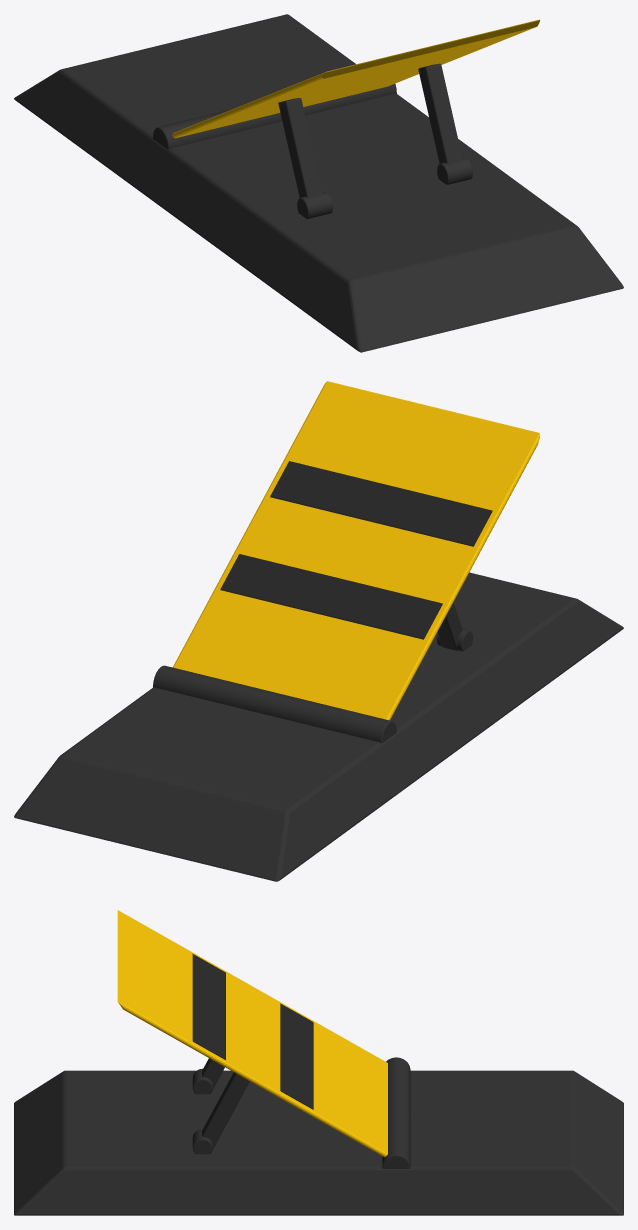
Rendered from city-parking-flap-lock.glb.
The picture shows the model from 3 angles, top to bottom: view 1: azimuth 30°, elevation 25°; view 2: azimuth 150°, elevation 25°; view 3: azimuth 270°, elevation 25°; orthographic projection. The views are drawn at different scales.
Visible parts, largest first — view 1: Assembly | Black cast housing, Assembly | Yellow powder-coated flap; view 2: Assembly | Black cast housing, Assembly | Yellow powder-coated flap, Assembly | Black flap stripe; view 3: Assembly | Black cast housing, Assembly | Yellow powder-coated flap, Assembly | Black flap stripe.
Part boxes in pixels (left/top/right/bottom): Assembly | Black cast housing: left=14, top=14, right=623, bottom=352; Assembly | Yellow powder-coated flap: left=172, top=19, right=540, bottom=138; Assembly | Black cast housing: left=14, top=572, right=623, bottom=881; Assembly | Yellow powder-coated flap: left=172, top=381, right=540, bottom=720; Assembly | Black flap stripe: left=220, top=461, right=492, bottom=639; Assembly | Black cast housing: left=14, top=1057, right=623, bottom=1215; Assembly | Yellow powder-coated flap: left=117, top=910, right=387, bottom=1157; Assembly | Black flap stripe: left=192, top=954, right=313, bottom=1109.
Size of the model in its own units: 0.4168 by 0.349 by 0.9459.
